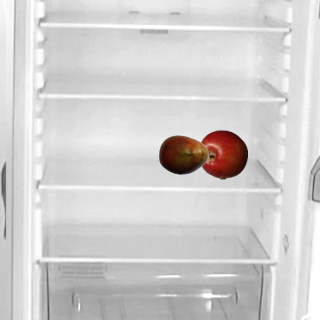Apple Braeburn: (197, 129, 247, 179)
Mango Red: (158, 129, 208, 179)
